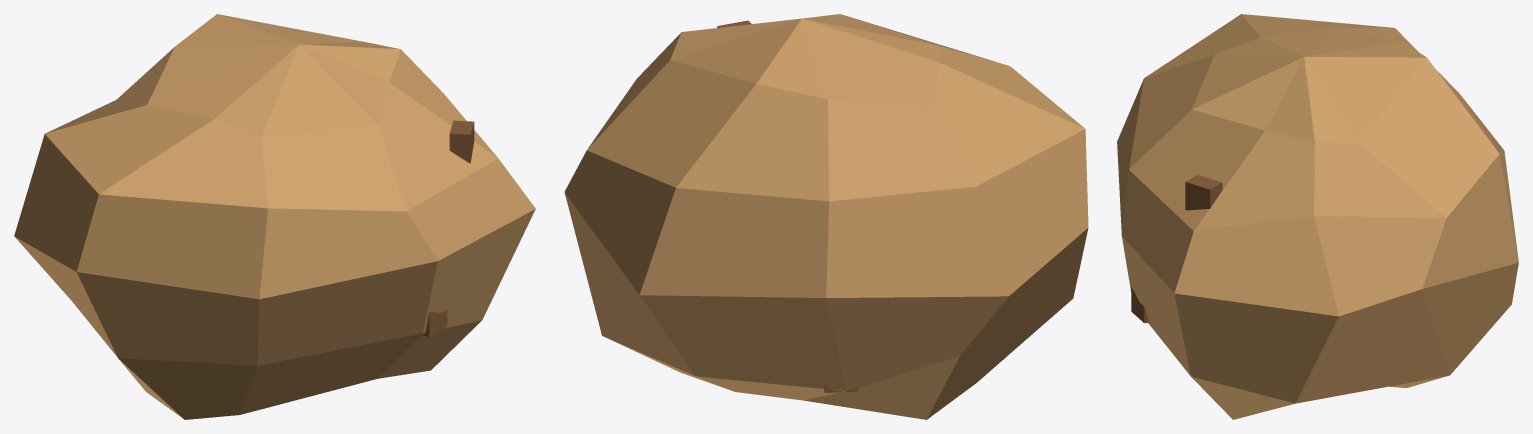
Rendered from potato_item.obj.
3 views of the same model, side by side, from view 1: azimuth 30°, elevation 25°; view 2: azimuth 150°, elevation 25°; view 3: azimuth 270°, elevation 25° (orthographic). The views are drawn at different scales.
Parts seen in each view (by area): view 1: item; view 2: item; view 3: item.
Boxes of the visible parts, x1=… form: item: x1=14, y1=14, x2=535, y2=419; item: x1=564, y1=14, x2=1088, y2=419; item: x1=1117, y1=14, x2=1518, y2=419.
Size of the model in its own units: 0.4778 by 0.3475 by 0.3889.
